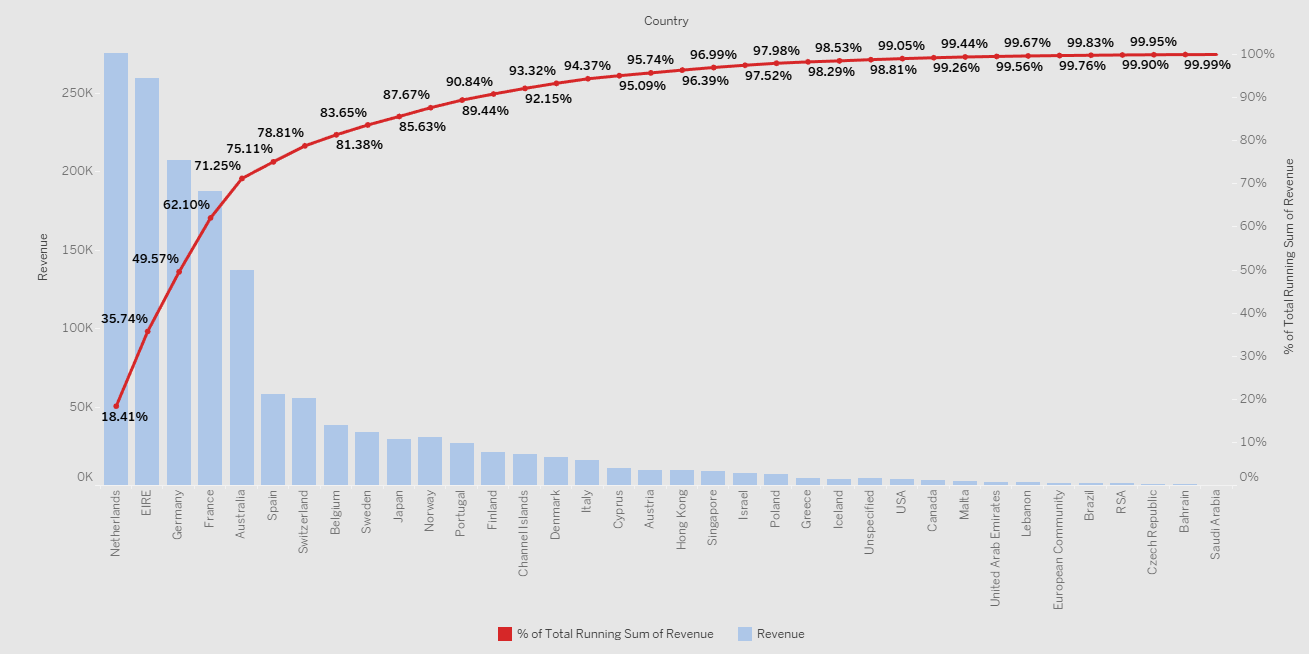

The page's visual inventory and layout, read from the dashboard file:
{"tool":"tableau","page":{"name":"Sales_Revenue_Pareto","canvas":[1400,700],"ordinal":8},"visuals":[{"type":"worksheet","title":"Pareto Chart","mark":"Line","rows":["Calculation_1441996330369675264","Calculation_1441996330369675264"],"cols":["Country"],"box":[60,35,1276,614]},{"type":"legend","title":"Pareto Chart","param":"[federated.120o6hi1b9q1li126ojbf0d454lv].[:Measure Names]","box":[586,654,316,37]}]}

Visuals, with their boxes in screenshot pixels (x1, y1, x2, y2), scaled from the page's 1400x700 canvas onto the 1309x654 screenshot:
"Pareto Chart" worksheet (Line marks): locate(56, 33, 1249, 606)
"Pareto Chart" legend: locate(548, 611, 843, 646)
